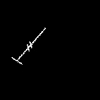treble_crochet: (12, 28, 45, 63)
